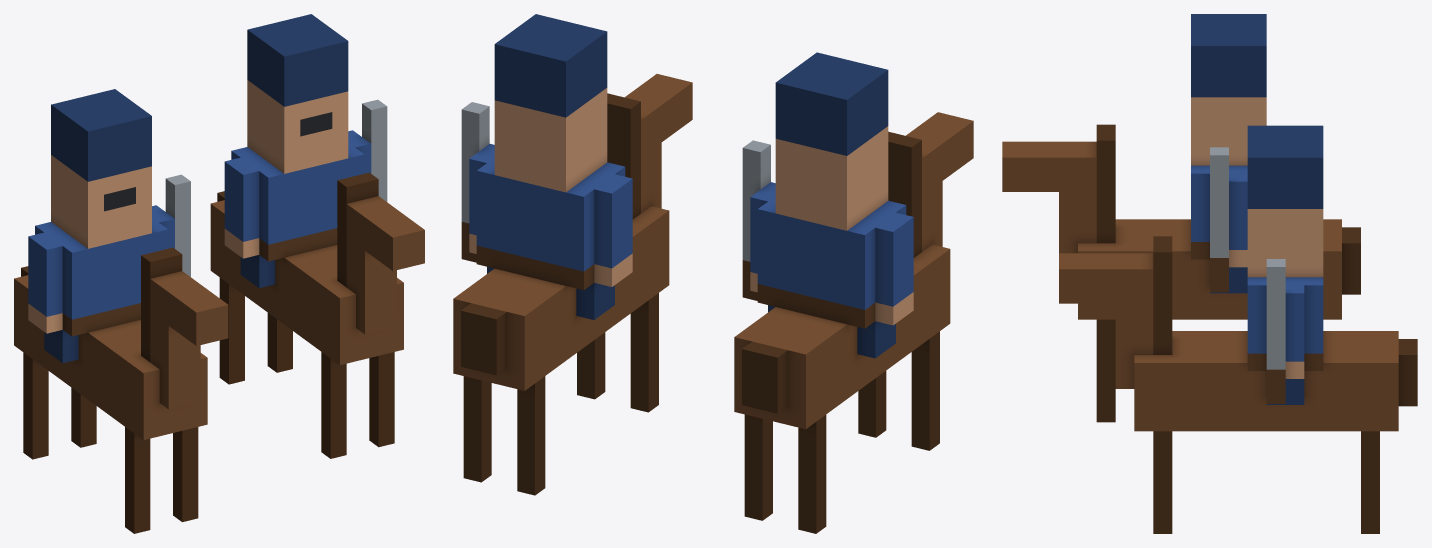
Rendered from u_cavalry.glb.
3 renders of one model, left to right at view 1: azimuth 30°, elevation 25°; view 2: azimuth 150°, elevation 25°; view 3: azimuth 270°, elevation 25°, orthographic. The views are drawn at different scales.
Parts seen in each view (by area): view 1: u_cavalry_body; view 2: u_cavalry_body; view 3: u_cavalry_body.
Part boxes in pixels (<box>): u_cavalry_body: <box>14,14,424,533</box>; u_cavalry_body: <box>453,14,973,533</box>; u_cavalry_body: <box>1002,14,1417,533</box>.
Size of the model in its own units: 1.44 by 1.38 by 1.38.
Materials: 1 (1 with a texture image).
